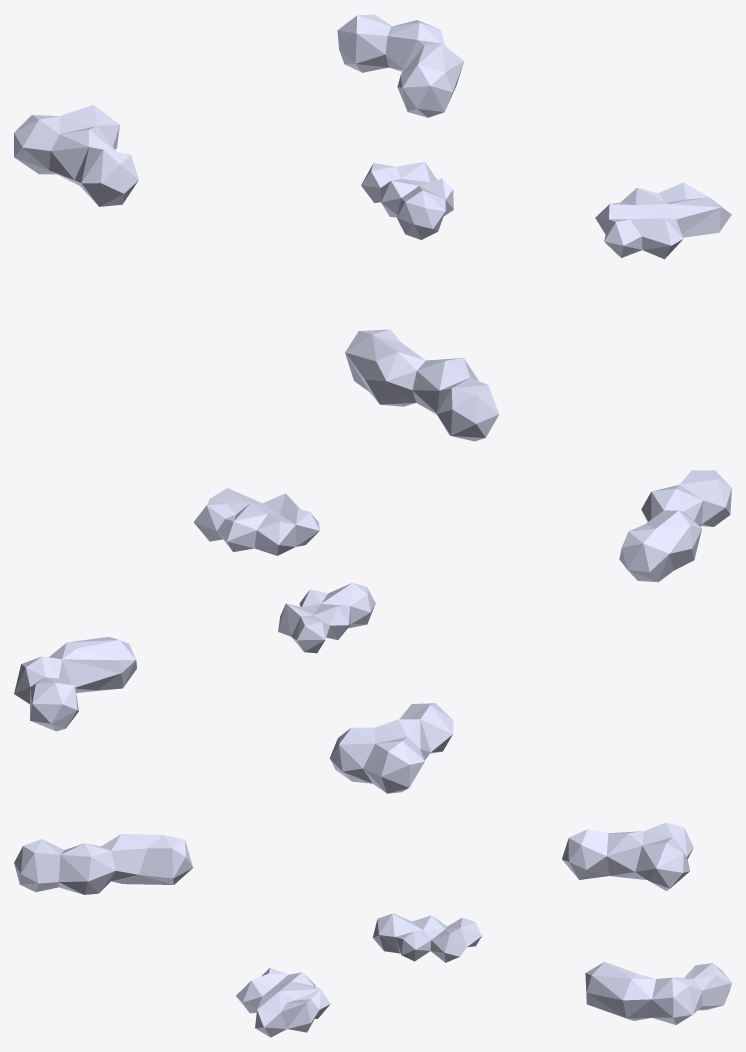
The model's file is clouds.fbx.
3 renders of one model, top to bottom at view 1: azimuth 30°, elevation 25°; view 2: azimuth 150°, elevation 25°; view 3: azimuth 270°, elevation 25°, orthographic. The views are drawn at different scales.
Parts seen in each view (by area): view 1: Mball.005; view 2: Mball.005; view 3: Mball.005.
Part boxes in pixels (x1,y1,x2,y2): Mball.005: [14, 14, 731, 441]; Mball.005: [14, 470, 731, 793]; Mball.005: [14, 822, 731, 1037].
Bounding box in the file's own units: 70.68 × 8.49 × 113.
